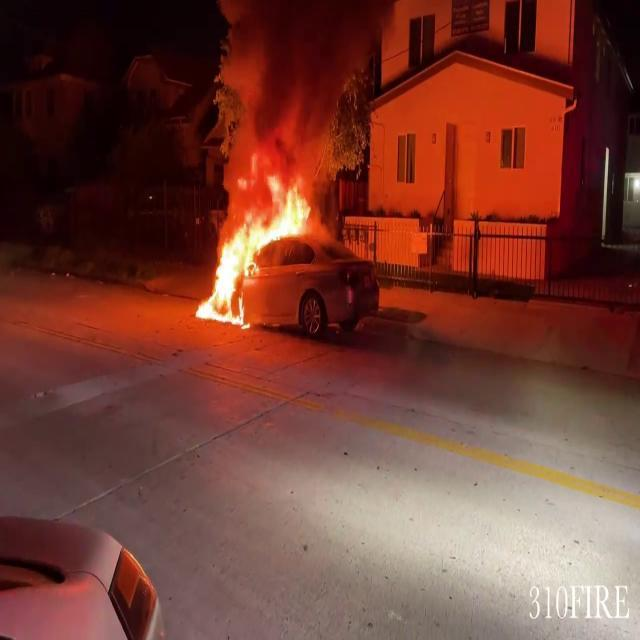Fire: (192, 162, 322, 327)
Smoke: (219, 0, 405, 165)
